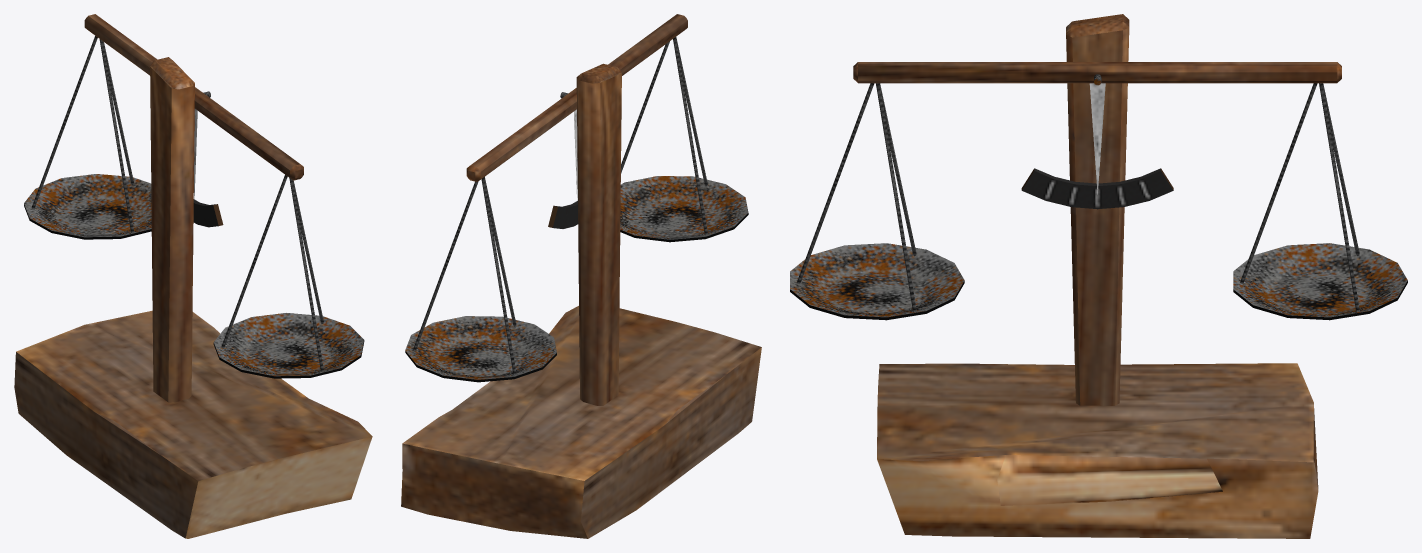
Rendered from ammomaker_GunPowderScale.fbx.
3 renders of one model, left to right at view 1: azimuth 30°, elevation 25°; view 2: azimuth 150°, elevation 25°; view 3: azimuth 270°, elevation 25°, orthographic. The views are drawn at different scales.
Visible parts, largest first — view 1: ammomaker_GunPowderScale; view 2: ammomaker_GunPowderScale; view 3: ammomaker_GunPowderScale.
Boxes of the visible parts, <box> form: ammomaker_GunPowderScale: <box>14,14,372,538</box>; ammomaker_GunPowderScale: <box>401,14,761,538</box>; ammomaker_GunPowderScale: <box>790,14,1407,538</box>.
Size of the model in its own units: 6.19 by 12.96 by 15.66.
